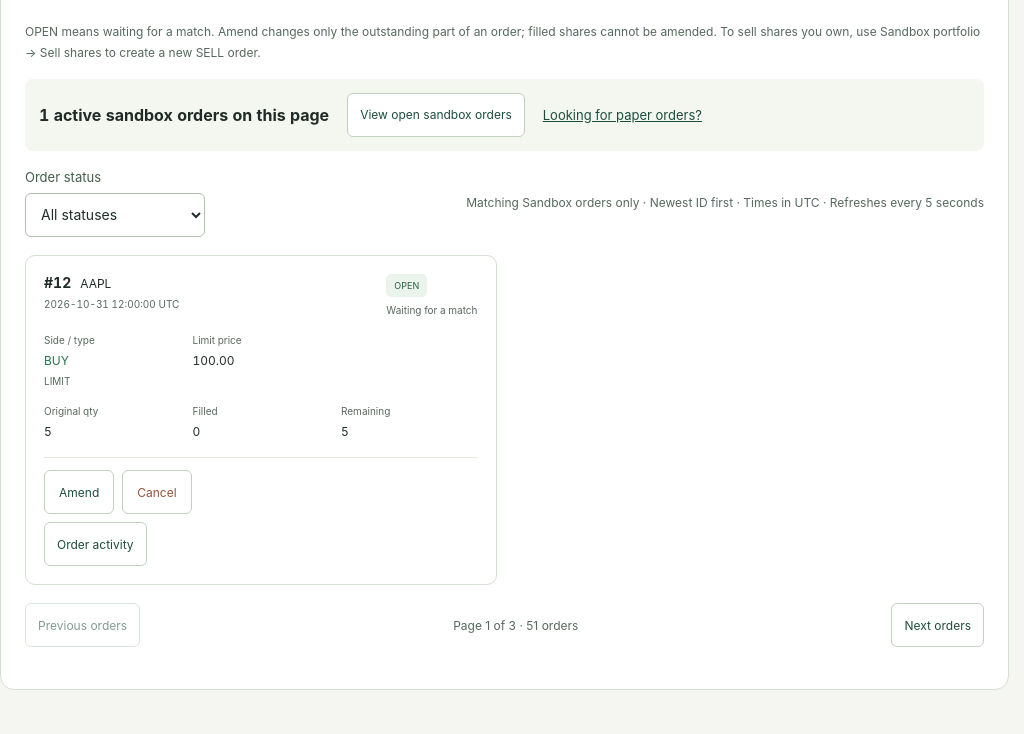
resets paging for server-side status filtering
The width and height of the screenshot is (1024, 734).
(page scrolled)
Click the button "Next orders". click: (938, 625)
box: [891,603,984,647]
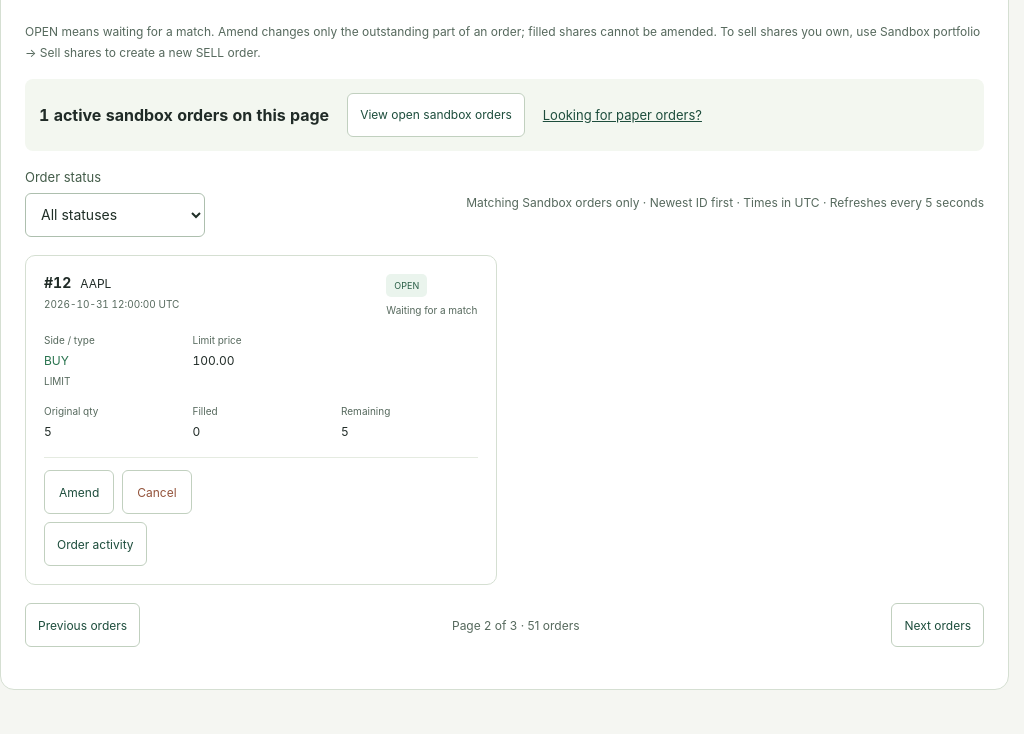
Select "FILLED" in the dropdown labelled "Order status". click: (115, 215)
box: [25,193,205,237]
(page scrolled)
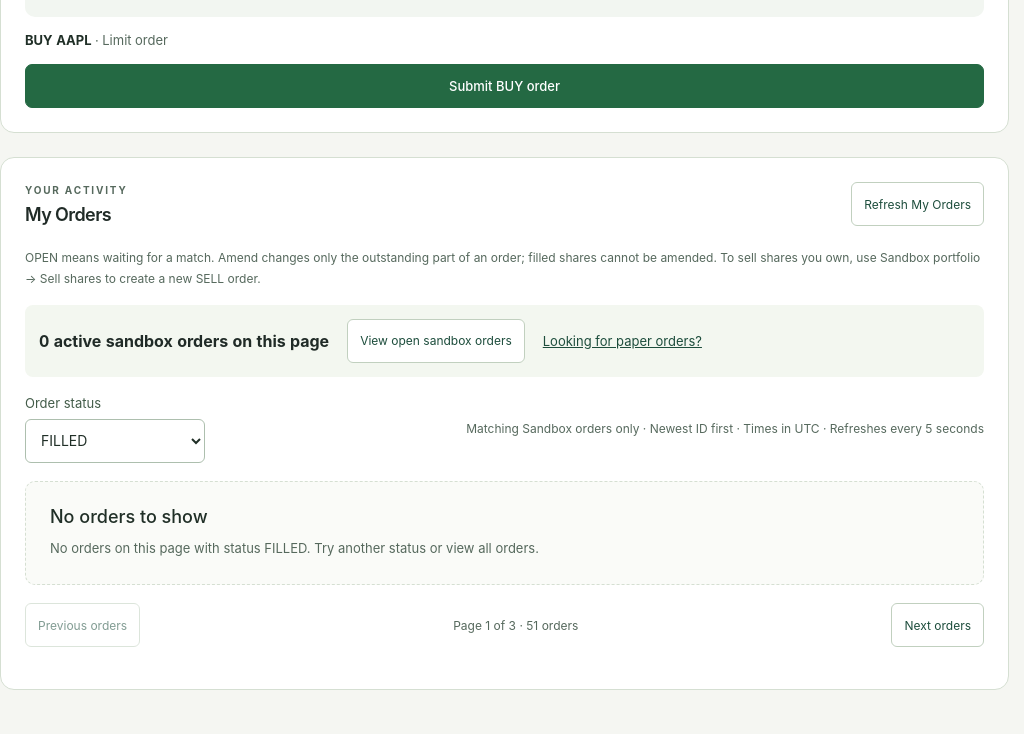
Check: the text "No orders on this page with status FILLED" is shown, box [50,540,539,556]
